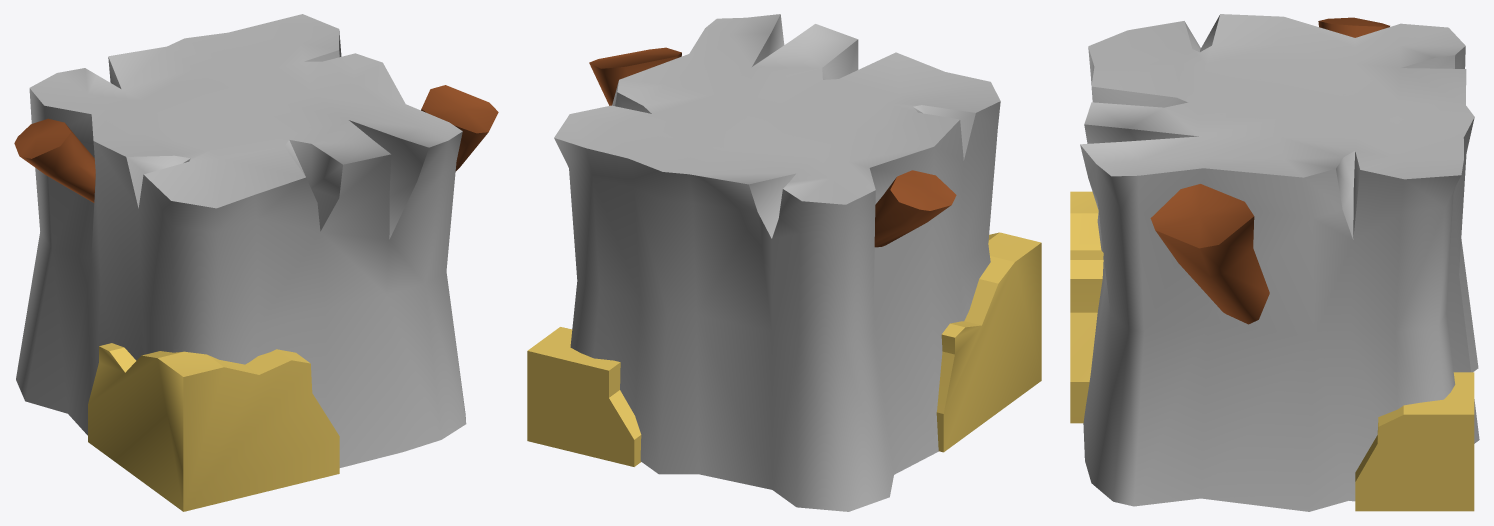
File: WoodenBox.fbx
3 views of the same model, side by side, from view 1: azimuth 30°, elevation 25°; view 2: azimuth 150°, elevation 25°; view 3: azimuth 270°, elevation 25° (orthographic). The views are drawn at different scales.
Visible parts, largest first — view 1: Wood, Corner_Big, Branch_2, Branch_1; view 2: Wood, Corner_Big, Corner_Small, Branch_2, Branch_1; view 3: Wood, Corner_Small, Branch_1, Corner_Big, Branch_2.
Boxes of the visible parts, bbox=[...] form: Wood: bbox=[16, 14, 466, 467]; Corner_Big: bbox=[88, 343, 339, 511]; Branch_2: bbox=[14, 118, 95, 202]; Branch_1: bbox=[421, 85, 498, 171]; Wood: bbox=[554, 14, 1000, 511]; Corner_Big: bbox=[936, 232, 1041, 452]; Corner_Small: bbox=[527, 327, 641, 466]; Branch_2: bbox=[874, 170, 956, 247]; Branch_1: bbox=[589, 47, 681, 105]; Wood: bbox=[1080, 14, 1479, 511]; Corner_Small: bbox=[1355, 372, 1474, 511]; Branch_1: bbox=[1150, 184, 1269, 324]; Corner_Big: bbox=[1070, 191, 1103, 423]; Branch_2: bbox=[1318, 17, 1389, 37].
Size of the model in its own units: 132 by 92.8 by 103.
